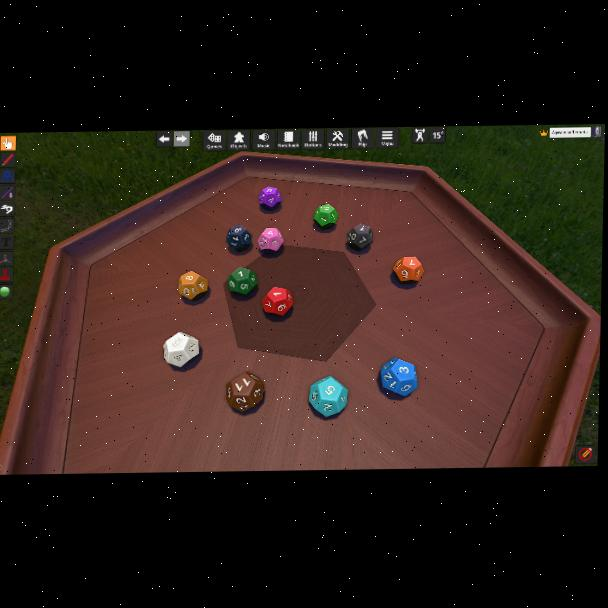d12: (225, 372, 265, 413), (308, 375, 347, 417), (379, 358, 416, 396), (164, 331, 201, 365), (178, 270, 209, 302), (261, 286, 293, 316), (226, 268, 257, 297), (393, 255, 423, 283), (346, 224, 373, 251), (226, 225, 253, 252), (257, 228, 284, 254), (313, 204, 337, 230), (258, 185, 281, 209)
